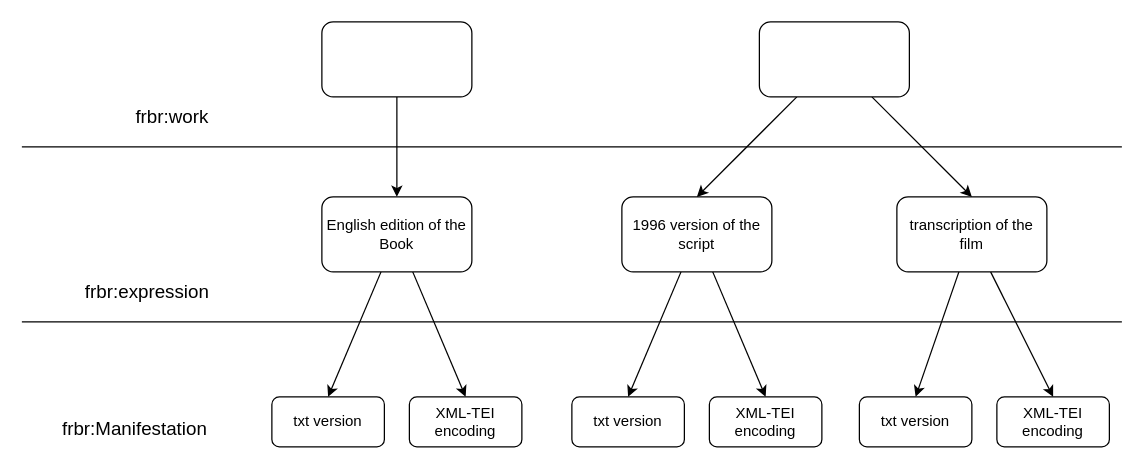
The diagram is 1145 pixels wide and 469 high, and some of its shapes have lost their labels. The shapes that lost their labels are listed below. From the top down, each one's centre as x and y in pixels, then its label:
point (396, 59): Rhapsody: A Dream Novel
point (833, 59): Eyes Wide Shut
